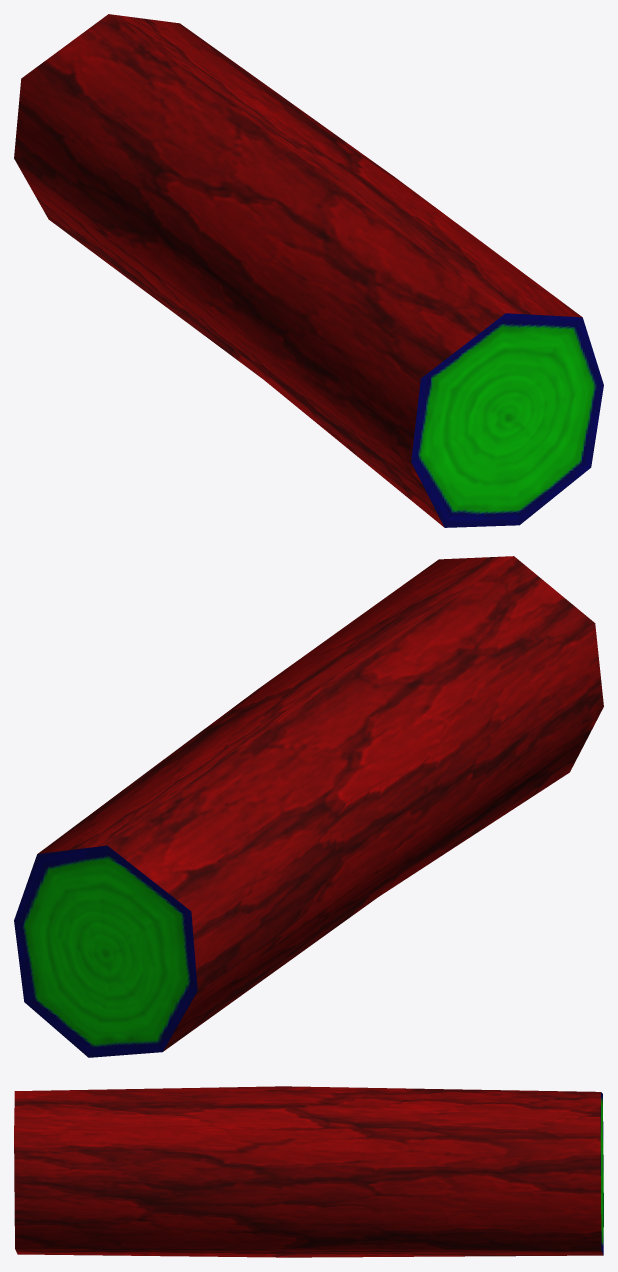
File: Firewood06.fbx
3 views of the same model, one above another, from view 1: azimuth 30°, elevation 25°; view 2: azimuth 150°, elevation 25°; view 3: azimuth 270°, elevation 25° (orthographic). The views are drawn at different scales.
Visible parts, largest first — view 1: Firewood06_LOD0; view 2: Firewood06_LOD0; view 3: Firewood06_LOD0.
Boxes of the visible parts, x1,y1,x2,y2 form: Firewood06_LOD0: (14,14,603,527); Firewood06_LOD0: (14,556,603,1057); Firewood06_LOD0: (14,1086,603,1257).
Size of what is drawn, in the model's own units: 0.2191 by 0.2424 by 0.7979.
